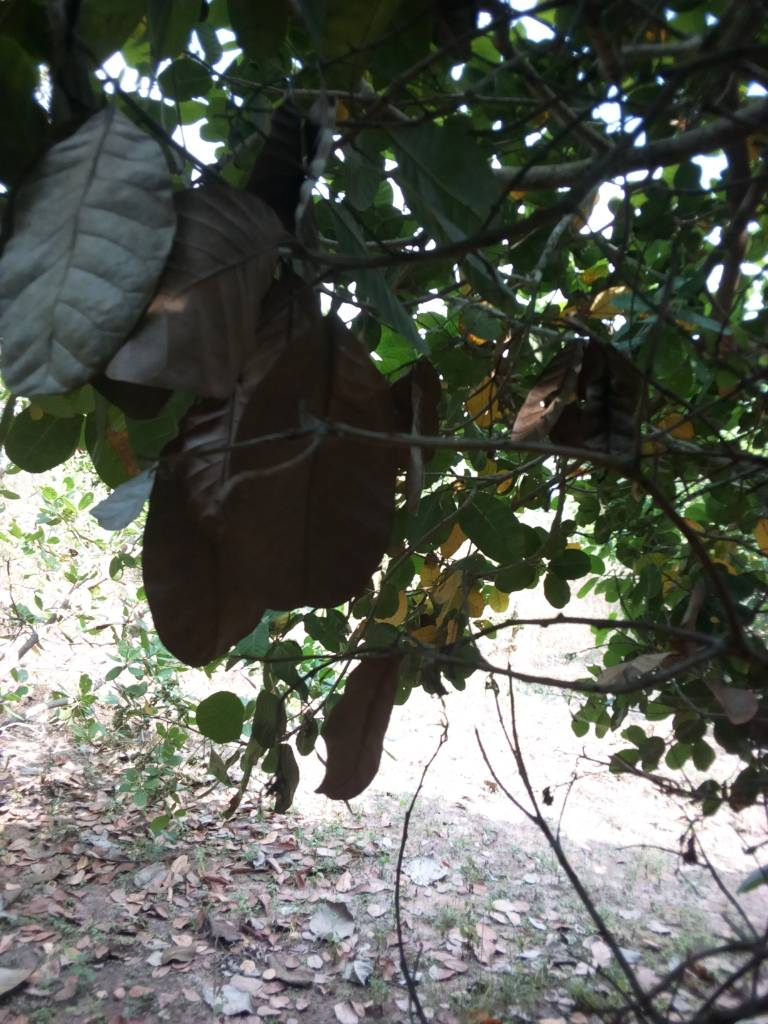Dessèchement des bourgeons: (172, 408, 353, 522)
